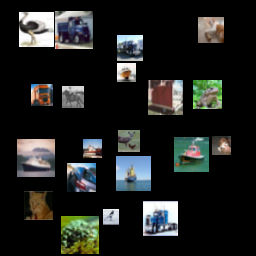automobile: (67, 163, 96, 192)
bird: (19, 12, 54, 47), (103, 209, 119, 225)
cat: (24, 191, 53, 220), (198, 17, 224, 43)
deer: (118, 130, 140, 152)
dog: (212, 136, 231, 155)
frog: (61, 216, 99, 254), (193, 80, 222, 109)
ship: (17, 139, 55, 177), (174, 137, 209, 172), (116, 156, 151, 191), (83, 139, 102, 158), (117, 63, 136, 82)
